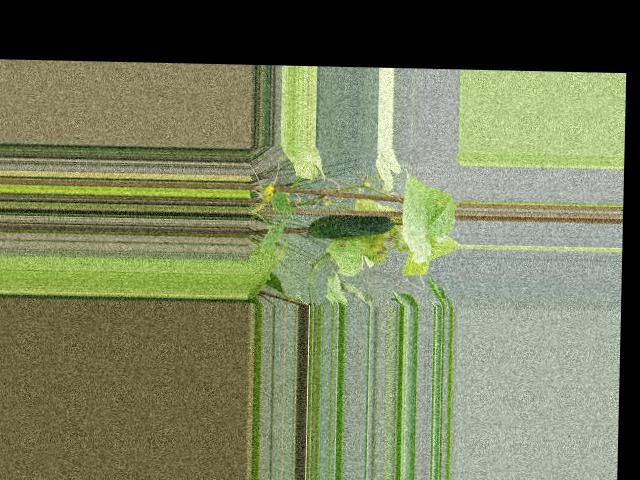cucumber: (306, 213, 393, 240)
